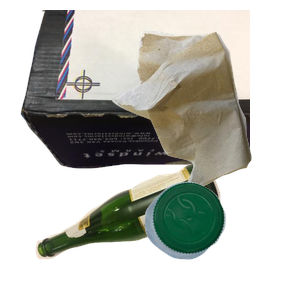cardboard: (18, 10, 258, 171)
glass: (33, 158, 246, 300)
plastic: (142, 179, 300, 300)
trash: (109, 28, 300, 208)
